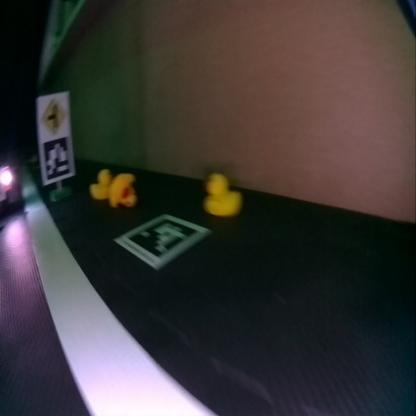Duckie: (204, 172, 241, 215), (109, 172, 135, 206), (89, 169, 110, 198)
Intersection sign: (40, 96, 66, 134)
QR code: (116, 215, 209, 264), (42, 135, 70, 180)
